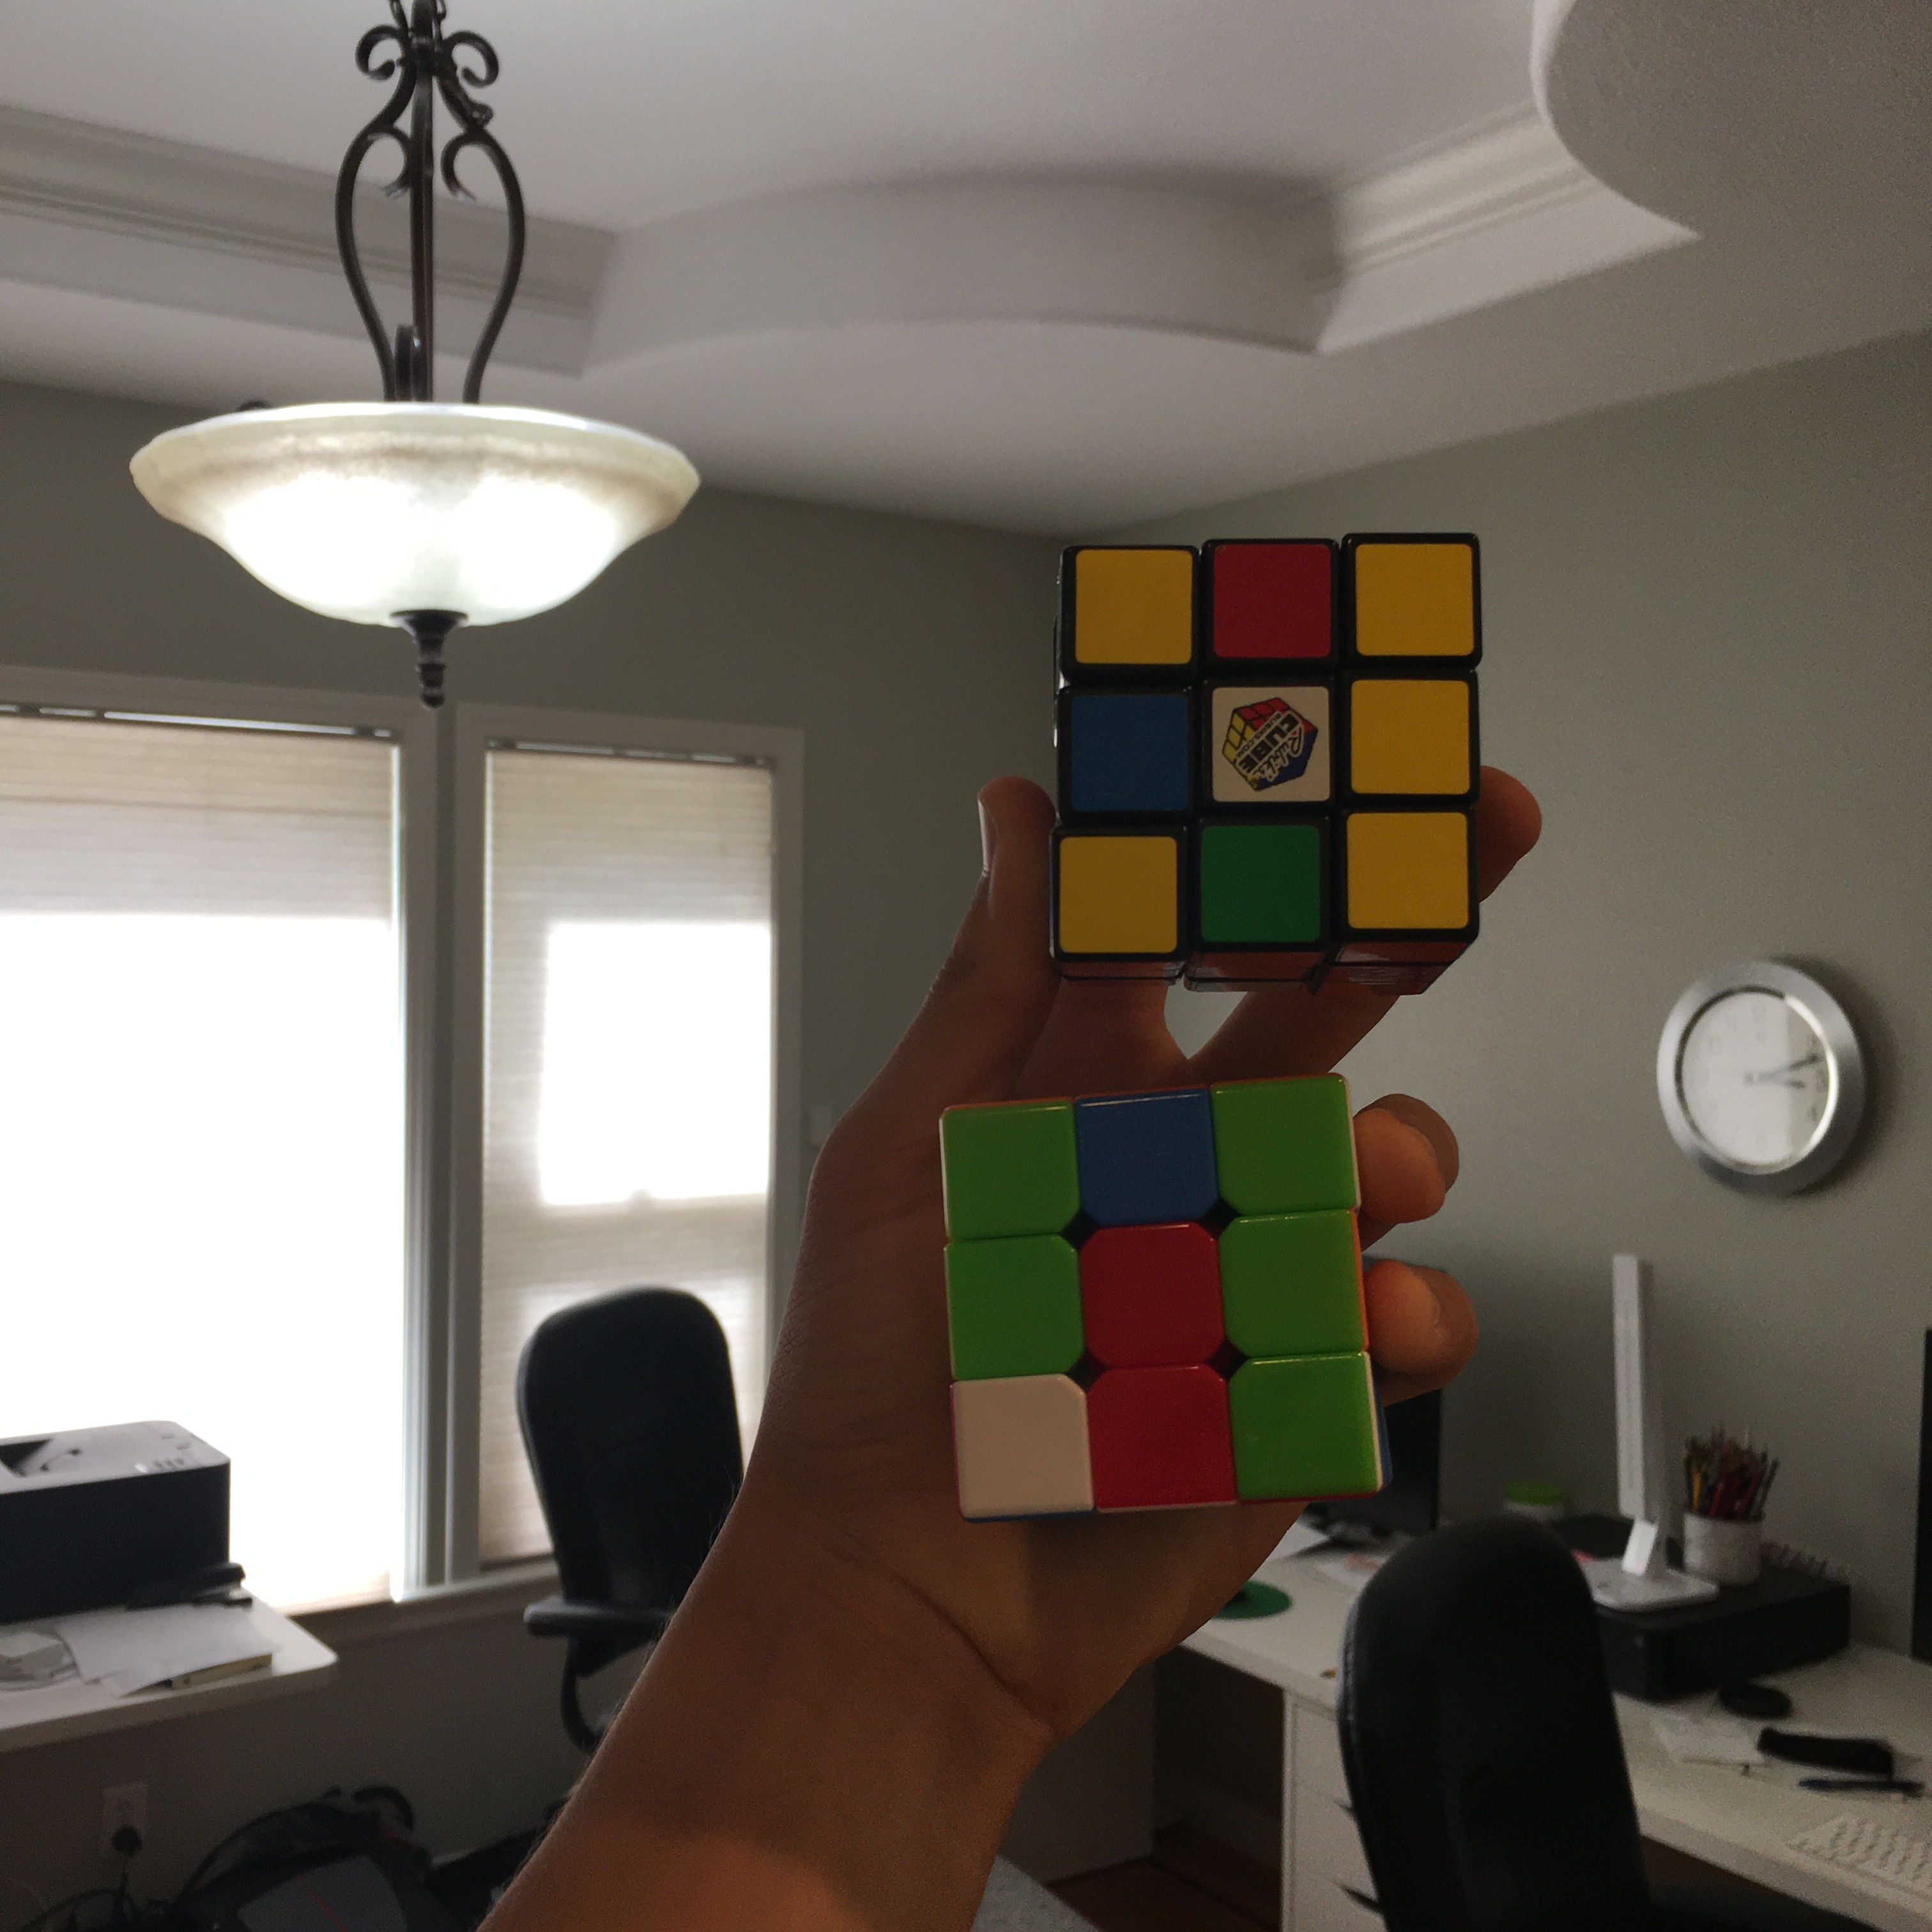face: (942, 1074, 1390, 1519), (1057, 541, 1479, 942)
